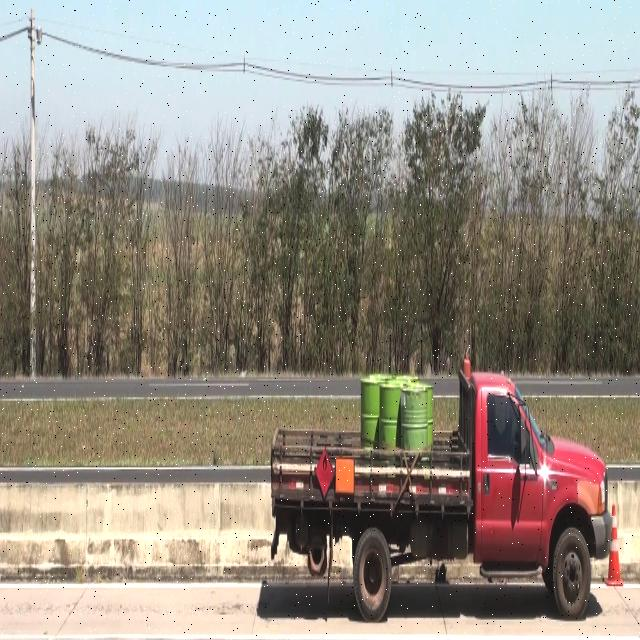-axle: (550, 518, 592, 625), (354, 529, 391, 619)
